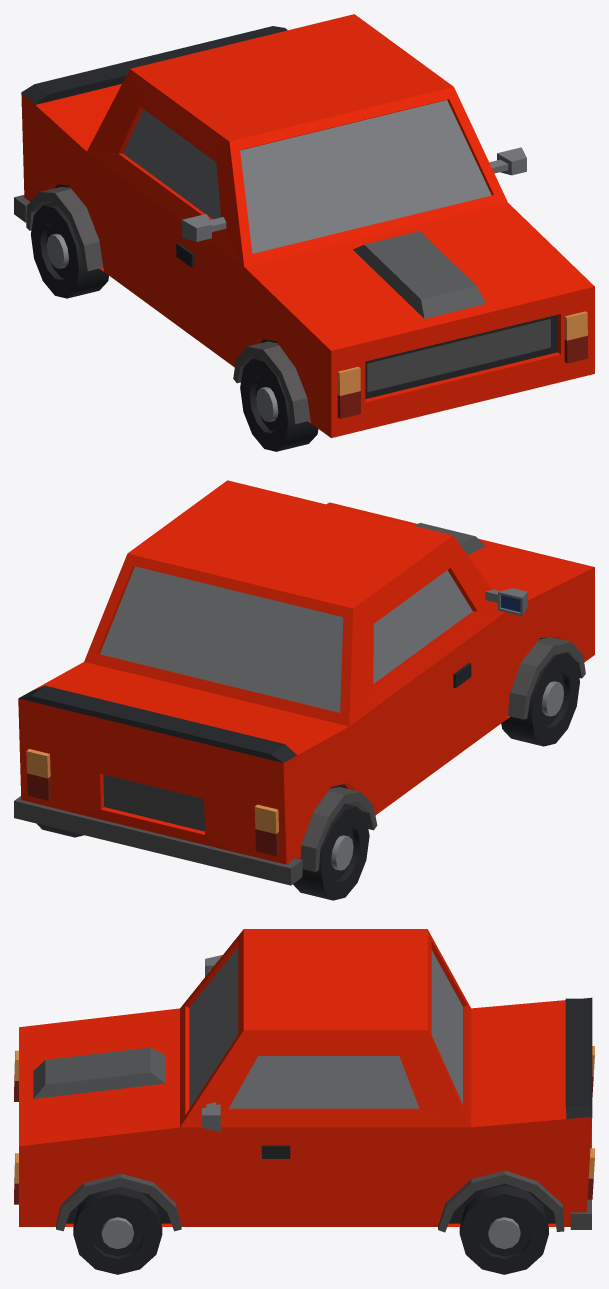
The model's file is Car_10.fbx.
3 renders of one model, top to bottom at view 1: azimuth 30°, elevation 25°; view 2: azimuth 150°, elevation 25°; view 3: azimuth 270°, elevation 25°, orthographic. The views are drawn at different scales.
Visible parts, largest first — view 1: Car_10; view 2: Car_10; view 3: Car_10.
Boxes of the visible parts, bbox=[...] form: Car_10: bbox=[14, 14, 594, 451]; Car_10: bbox=[14, 480, 594, 900]; Car_10: bbox=[14, 929, 594, 1274].
Bounding box in the file's own units: 188 × 133 × 303.
